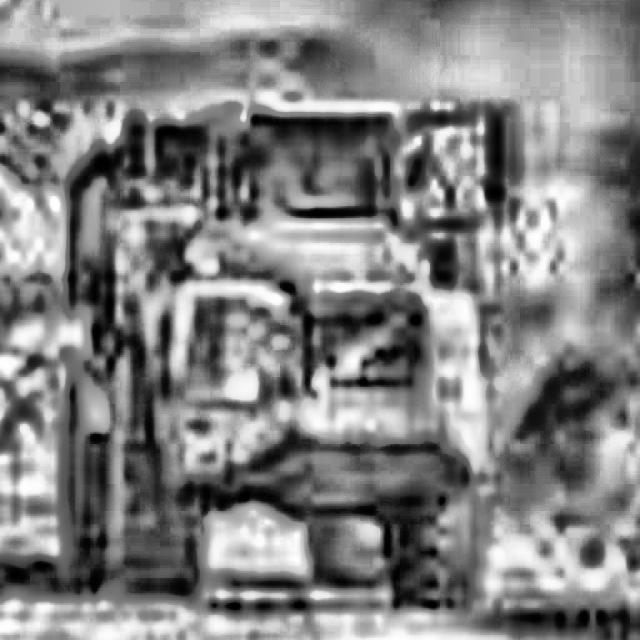dump_truck: (44, 82, 513, 618)
